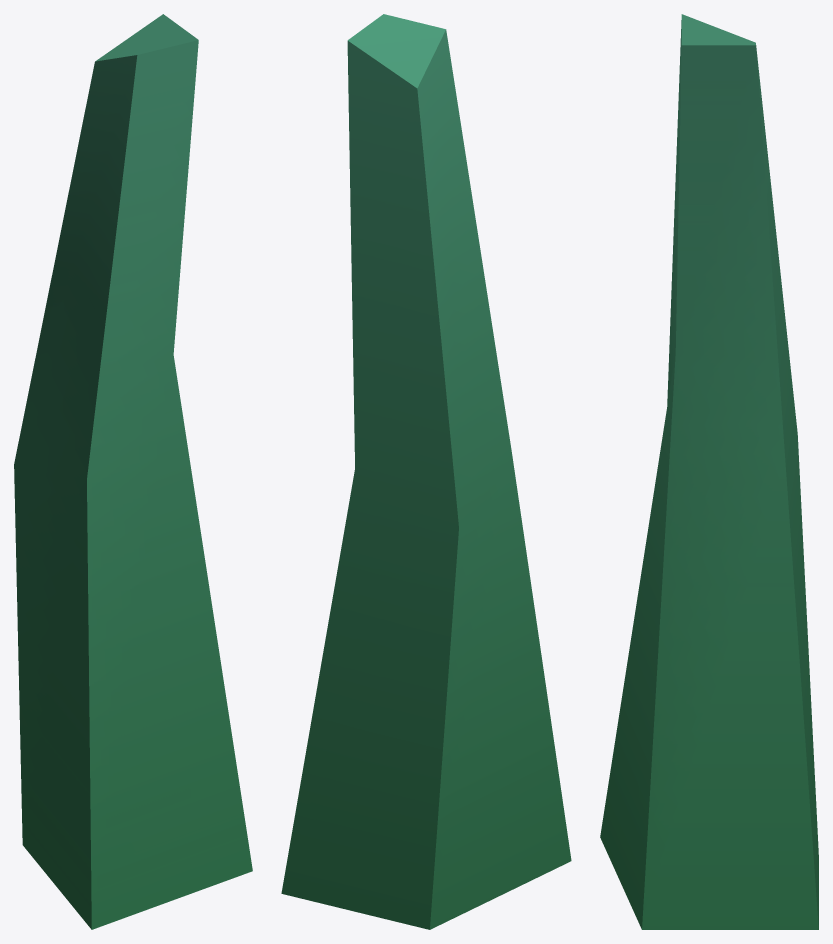
Rendered from Reed001.glb.
3 views of the same model, side by side, from view 1: azimuth 30°, elevation 25°; view 2: azimuth 150°, elevation 25°; view 3: azimuth 270°, elevation 25° (orthographic). The views are drawn at different scales.
Parts seen in each view (by area): view 1: Reed001; view 2: Reed001; view 3: Reed001.
Part boxes in pixels (<box>): Reed001: <box>14,14,252,929</box>; Reed001: <box>281,14,571,929</box>; Reed001: <box>600,14,818,929</box>.
Size of the model in its own units: 93.51 by 408 by 93.24.
1 material, 1 textured.
